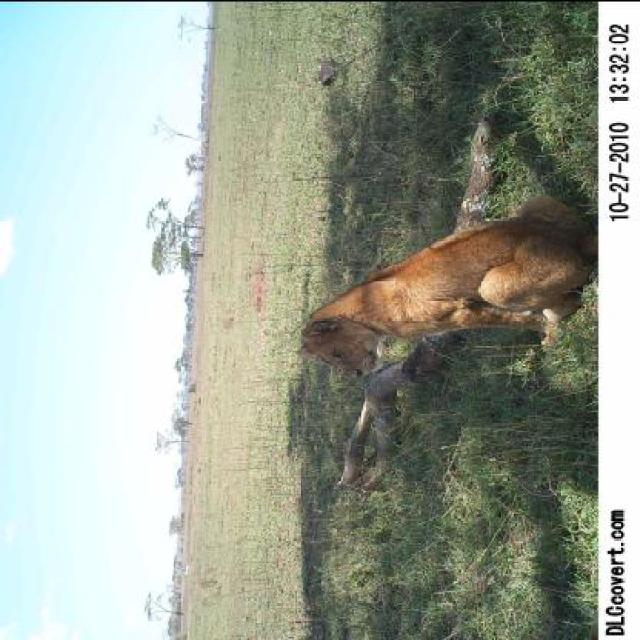Lion: (291, 189, 592, 385)
